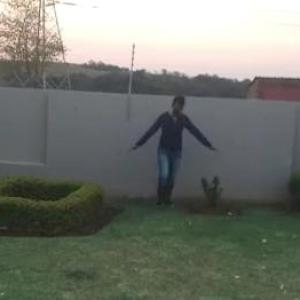land: (127, 91, 217, 216)
